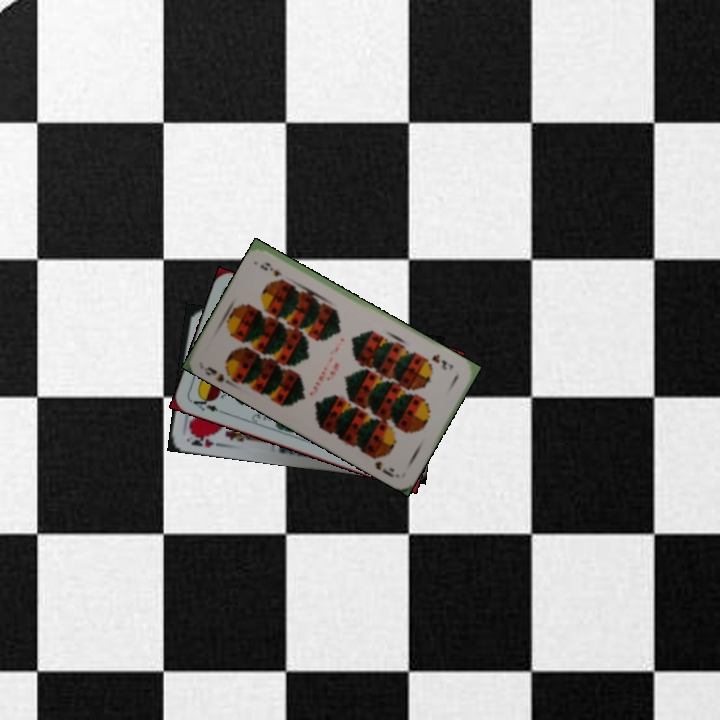EA: (187, 392, 227, 416)
HK: (186, 429, 224, 450)
S9: (200, 363, 237, 389), (428, 350, 456, 373)
